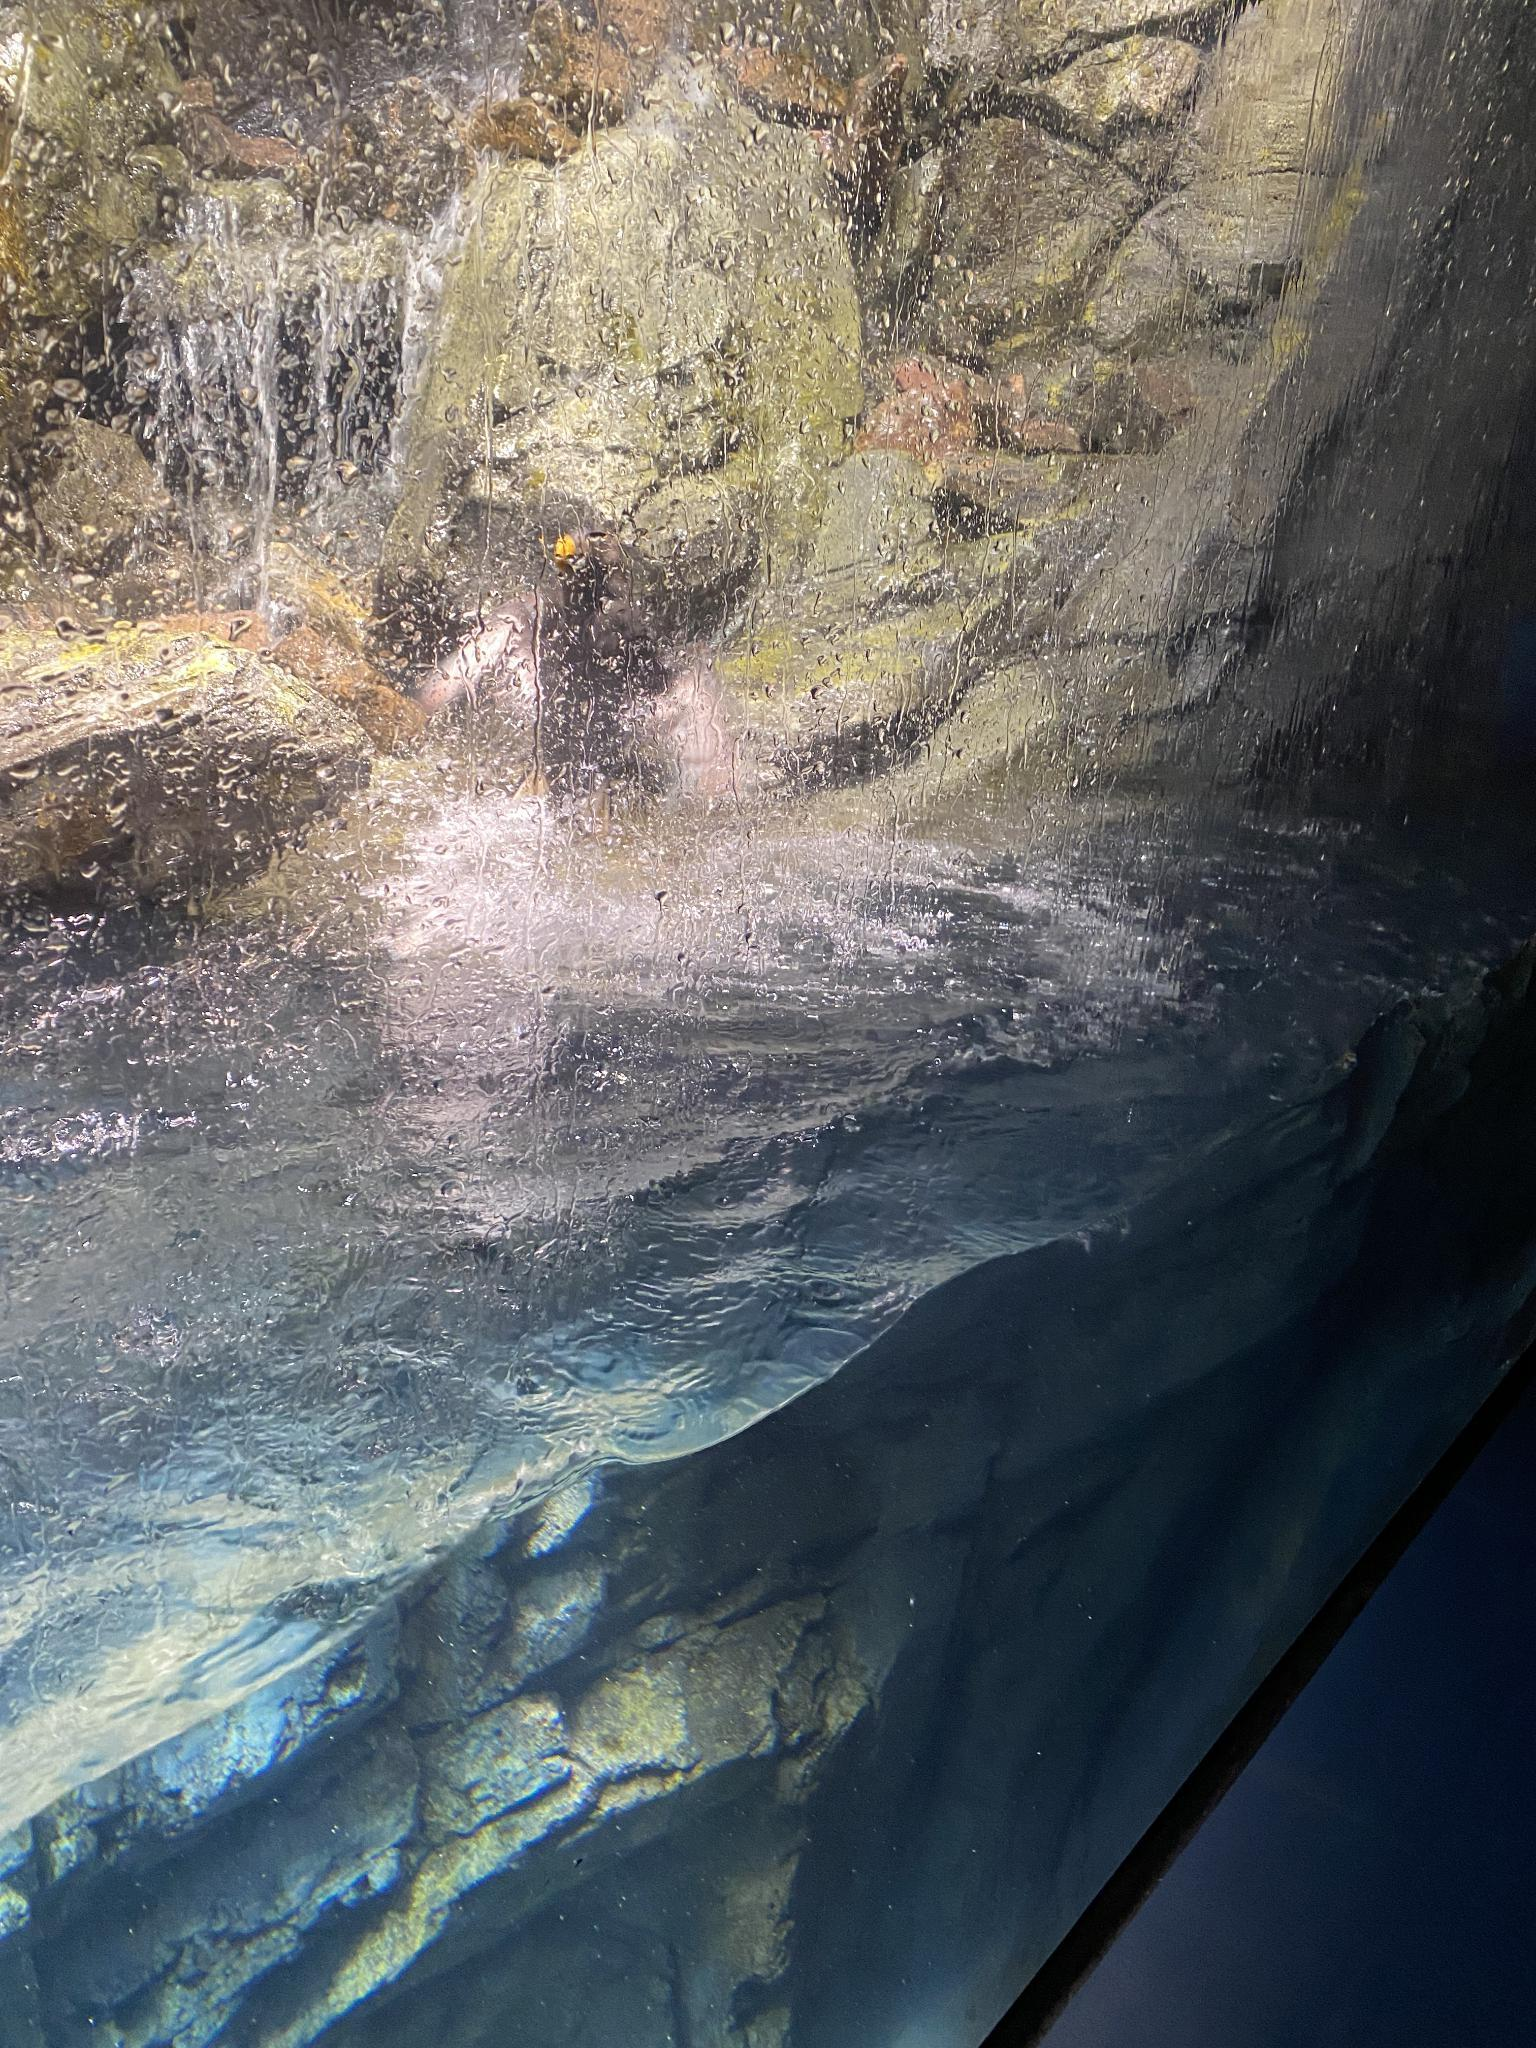puffin: (539, 518, 679, 760)
